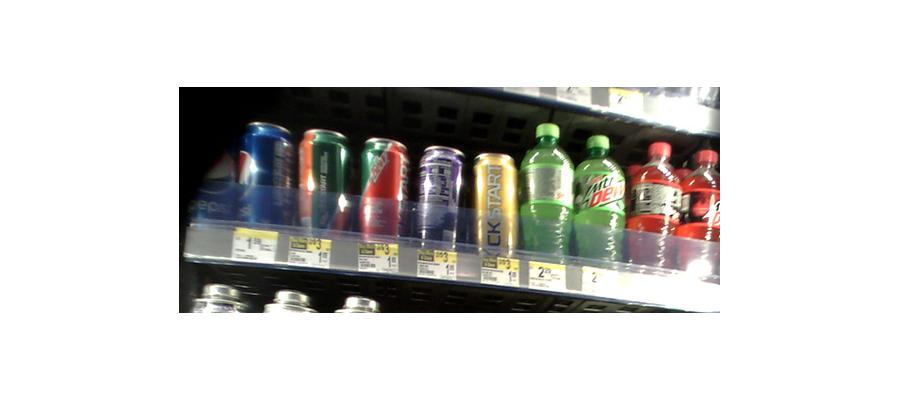bottle: (516, 123, 574, 263), (627, 139, 679, 272), (573, 135, 625, 268), (411, 143, 468, 253), (236, 117, 289, 228), (356, 136, 410, 241), (299, 128, 351, 236), (473, 150, 516, 260), (684, 142, 718, 276)
